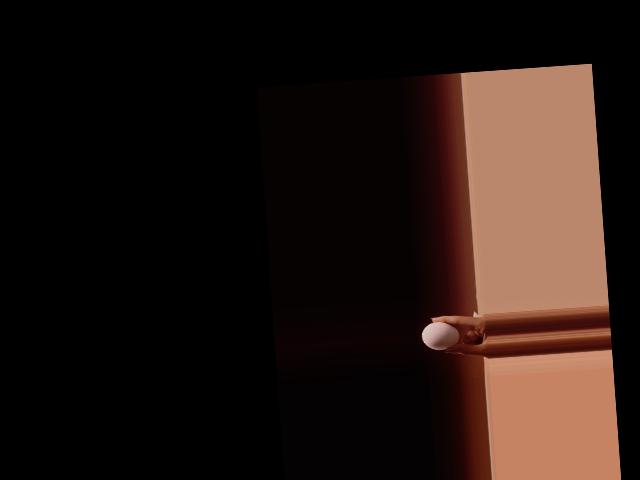egg: (421, 321, 461, 352)
